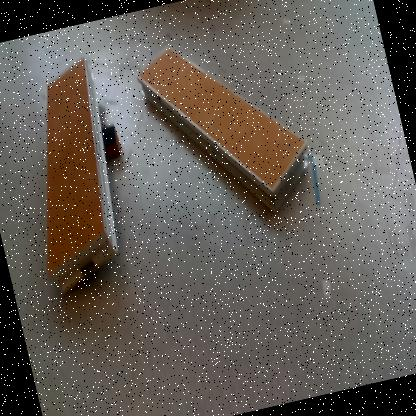Stairs: (137, 47, 308, 215), (46, 60, 119, 297)
